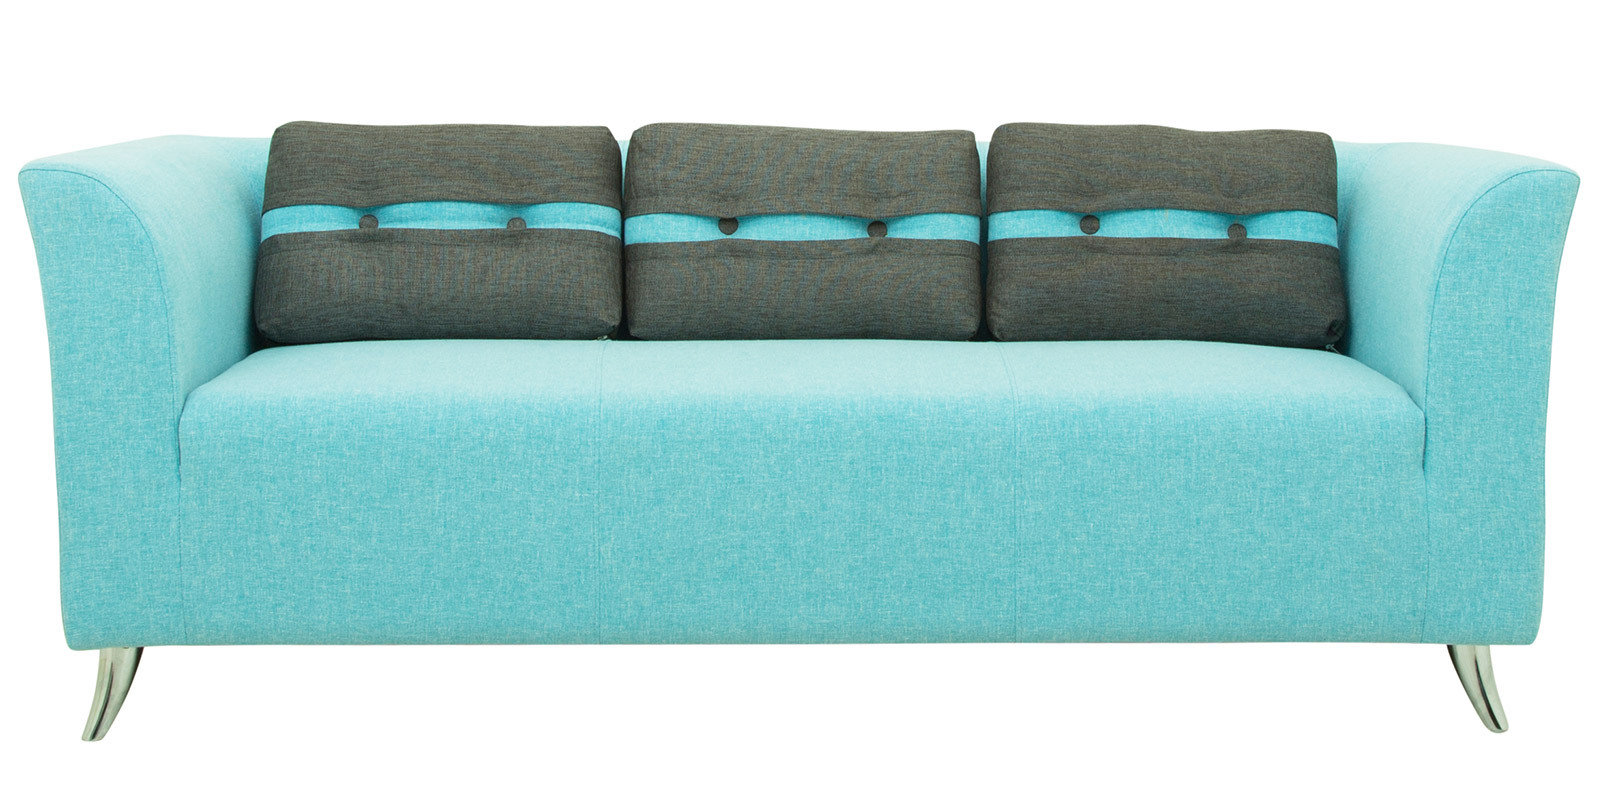Iowa Three Seater Sofa in Celeste Blue Colour by Furnitech: (26, 110, 1599, 788)
